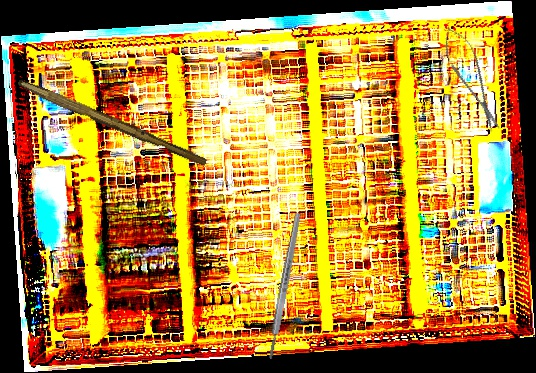Micro Scissor: (435, 21, 509, 137)
Scalpel Handle: (14, 78, 210, 168), (265, 212, 304, 360)
